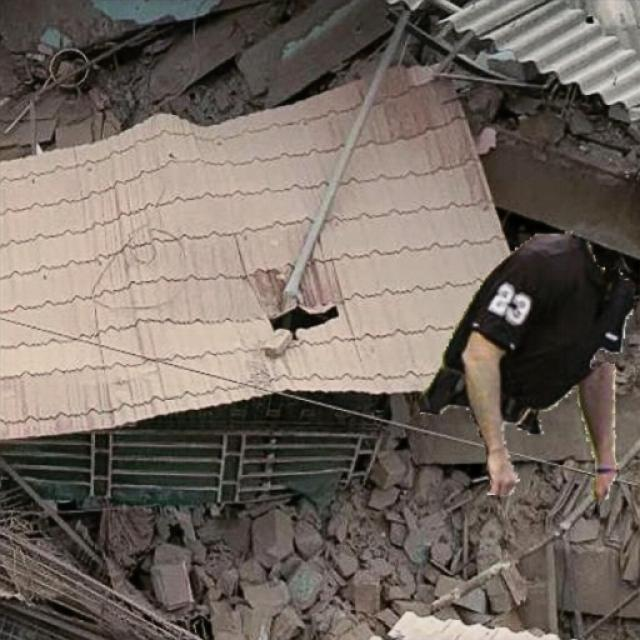Person in Rubble: (420, 230, 632, 499)
